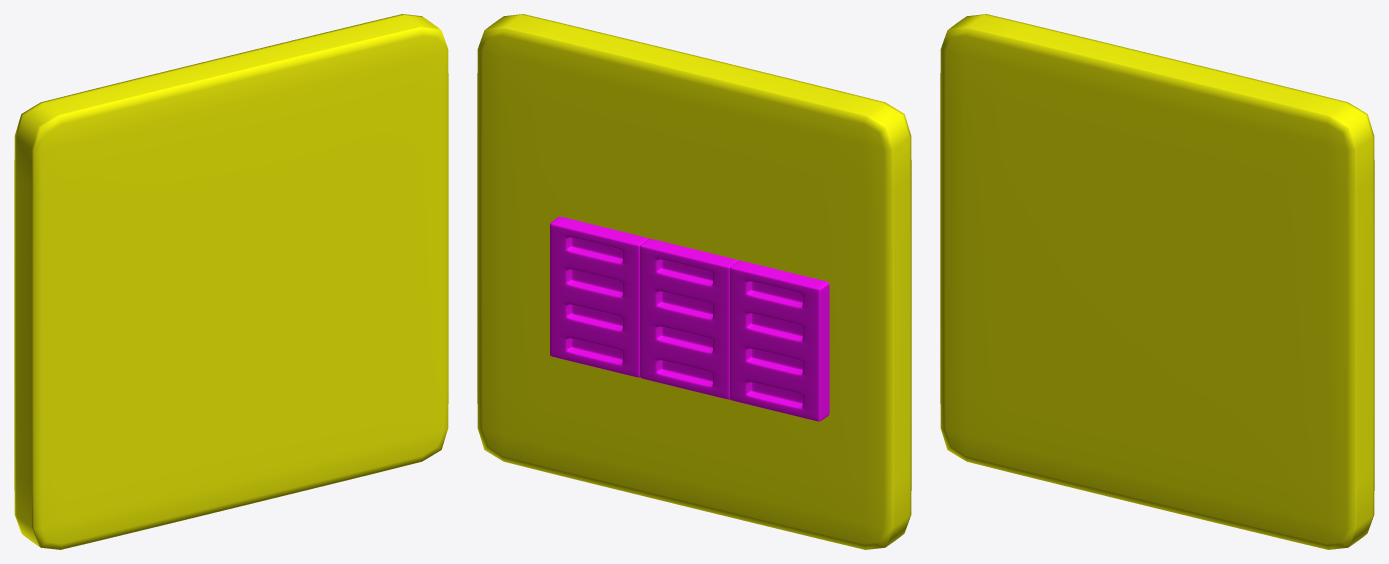
3 renders of one model, left to right at view 1: azimuth 30°, elevation 25°; view 2: azimuth 150°, elevation 25°; view 3: azimuth 330°, elevation 25°, orthographic.
Parts seen in each view (by area): view 1: polySurface1008; view 2: polySurface1008; view 3: polySurface1008.
Boxes of the visible parts, <box> form: polySurface1008: <box>14,14,448,549</box>; polySurface1008: <box>477,14,911,549</box>; polySurface1008: <box>940,14,1374,549</box>.
Bounding box in the file's own units: 0.9994 × 0.9994 × 0.1381.
